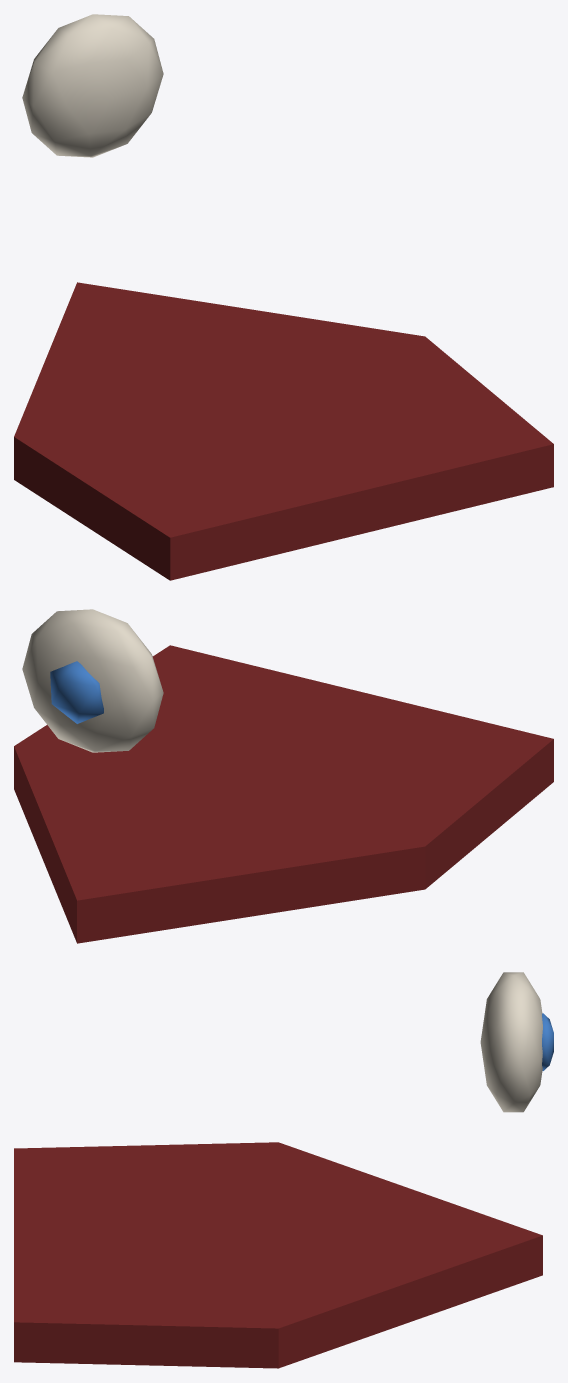
Rendered from shield_of_cthulhu.glb.
3 renders of one model, top to bottom at view 1: azimuth 30°, elevation 25°; view 2: azimuth 150°, elevation 25°; view 3: azimuth 270°, elevation 25°, orthographic. The views are drawn at different scales.
Parts seen in each view (by area): view 1: shield_of_cthulhu_v0; view 2: shield_of_cthulhu_v0; view 3: shield_of_cthulhu_v0.
Boxes of the visible parts, bbox=[...] form: shield_of_cthulhu_v0: bbox=[14, 14, 553, 580]; shield_of_cthulhu_v0: bbox=[14, 609, 553, 943]; shield_of_cthulhu_v0: bbox=[14, 972, 553, 1368].
Bounding box in the file's own units: 0.3 × 0.225 × 0.3675.
